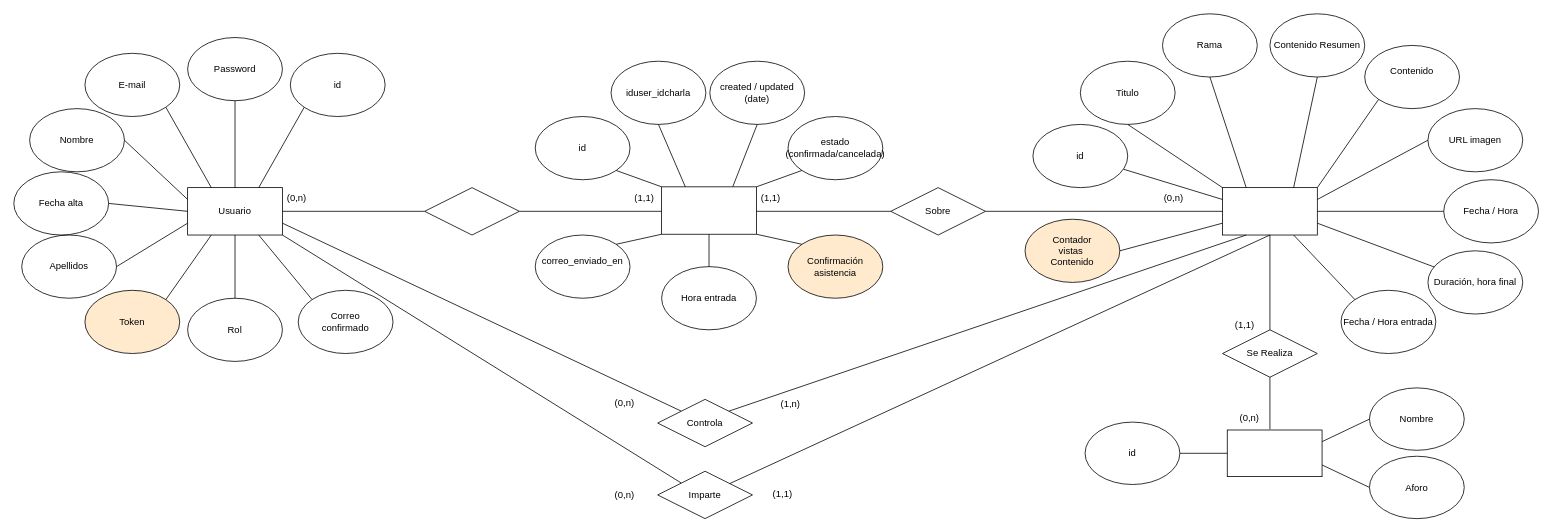
Some shapes in this 1552 by 532 pixel diagram are drawn without their labels. The centre of each missing label's shape, as x and y in pixels:
Charla: the point at 1269,211
Hace: the point at 471,211
Reserva: the point at 708,210
Sala: the point at 1274,453
